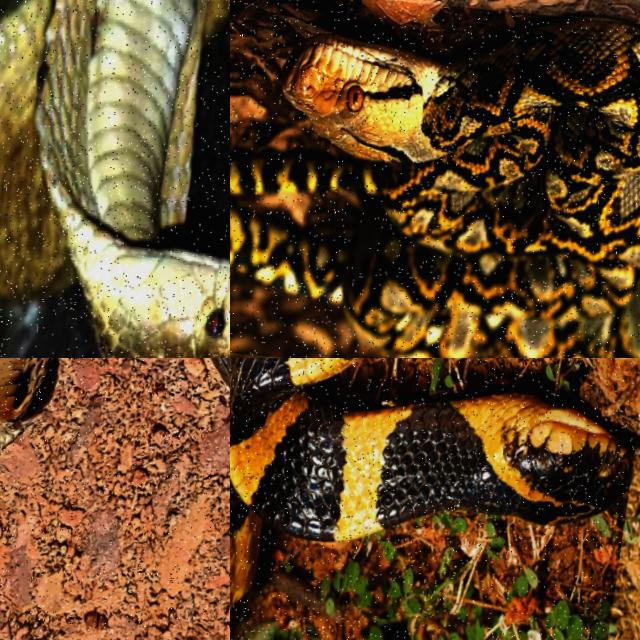Bungarus fasciatus: (230, 358, 631, 639)
Malayopython reticulatus: (230, 18, 639, 357)
Naja kaouthia: (0, 0, 229, 357), (0, 358, 57, 451)
